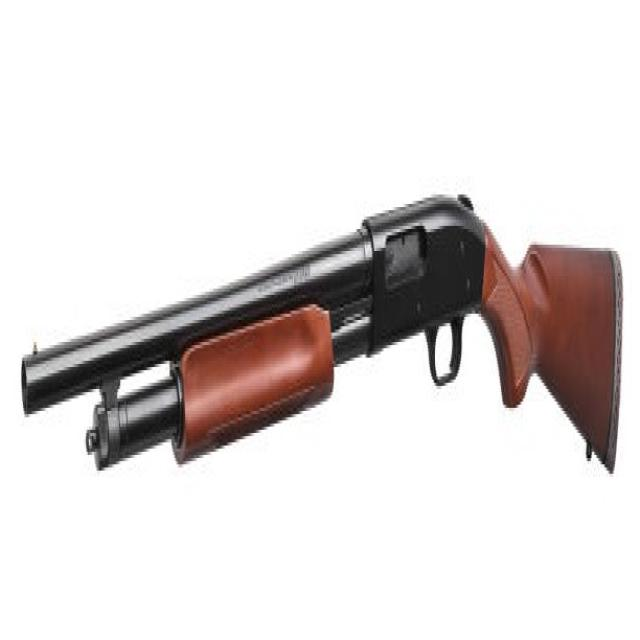rifle: (19, 141, 626, 500)
